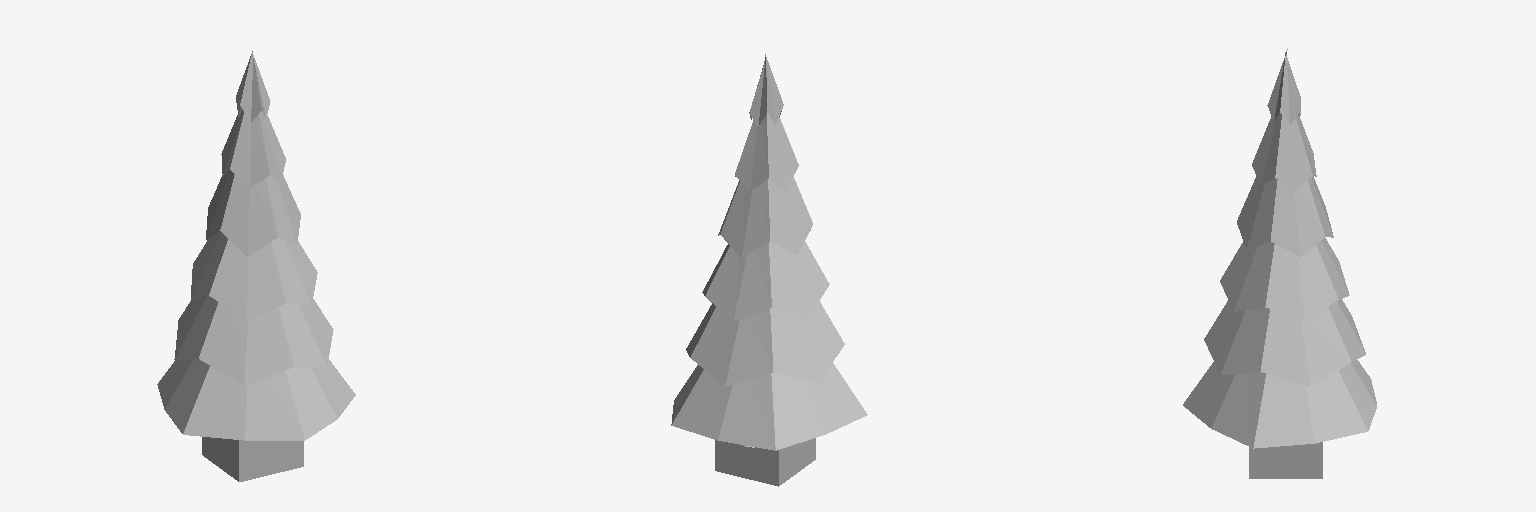
Rendered from crisgarcia.obj.
3 renders of one model, left to right at view 1: azimuth 30°, elevation 25°; view 2: azimuth 150°, elevation 25°; view 3: azimuth 270°, elevation 25°, orthographic.
Visible parts, largest first — view 1: Cylinder, Cube; view 2: Cylinder, Cube; view 3: Cylinder, Cube.
Part boxes in pixels (left/top/right/bottom): Cylinder: left=157, top=51, right=355, bottom=440; Cube: left=202, top=437, right=303, bottom=481; Cylinder: left=671, top=54, right=867, bottom=450; Cube: left=715, top=438, right=815, bottom=486; Cylinder: left=1183, top=49, right=1376, bottom=448; Cube: left=1249, top=442, right=1322, bottom=478.
Size of the model in its own units: 5.41 by 12.35 by 5.27.